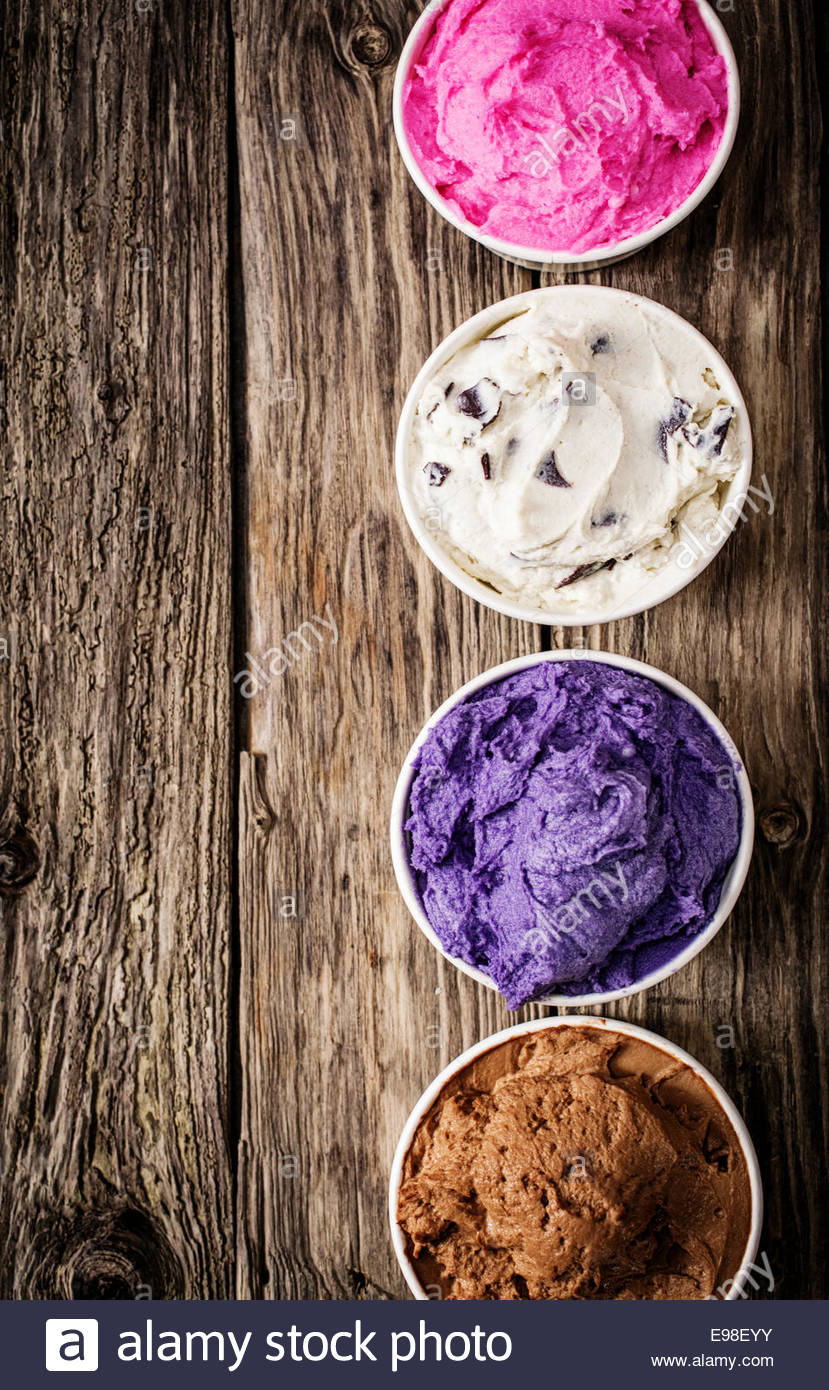ice-cream: (402, 661, 744, 997), (402, 298, 742, 613), (399, 1029, 743, 1300), (401, 1, 726, 251)
